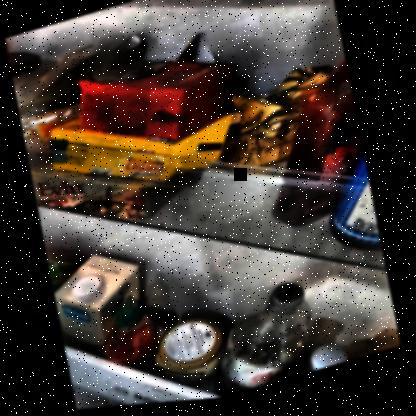butter: (25, 90, 211, 244)
milk: (50, 247, 141, 357)
